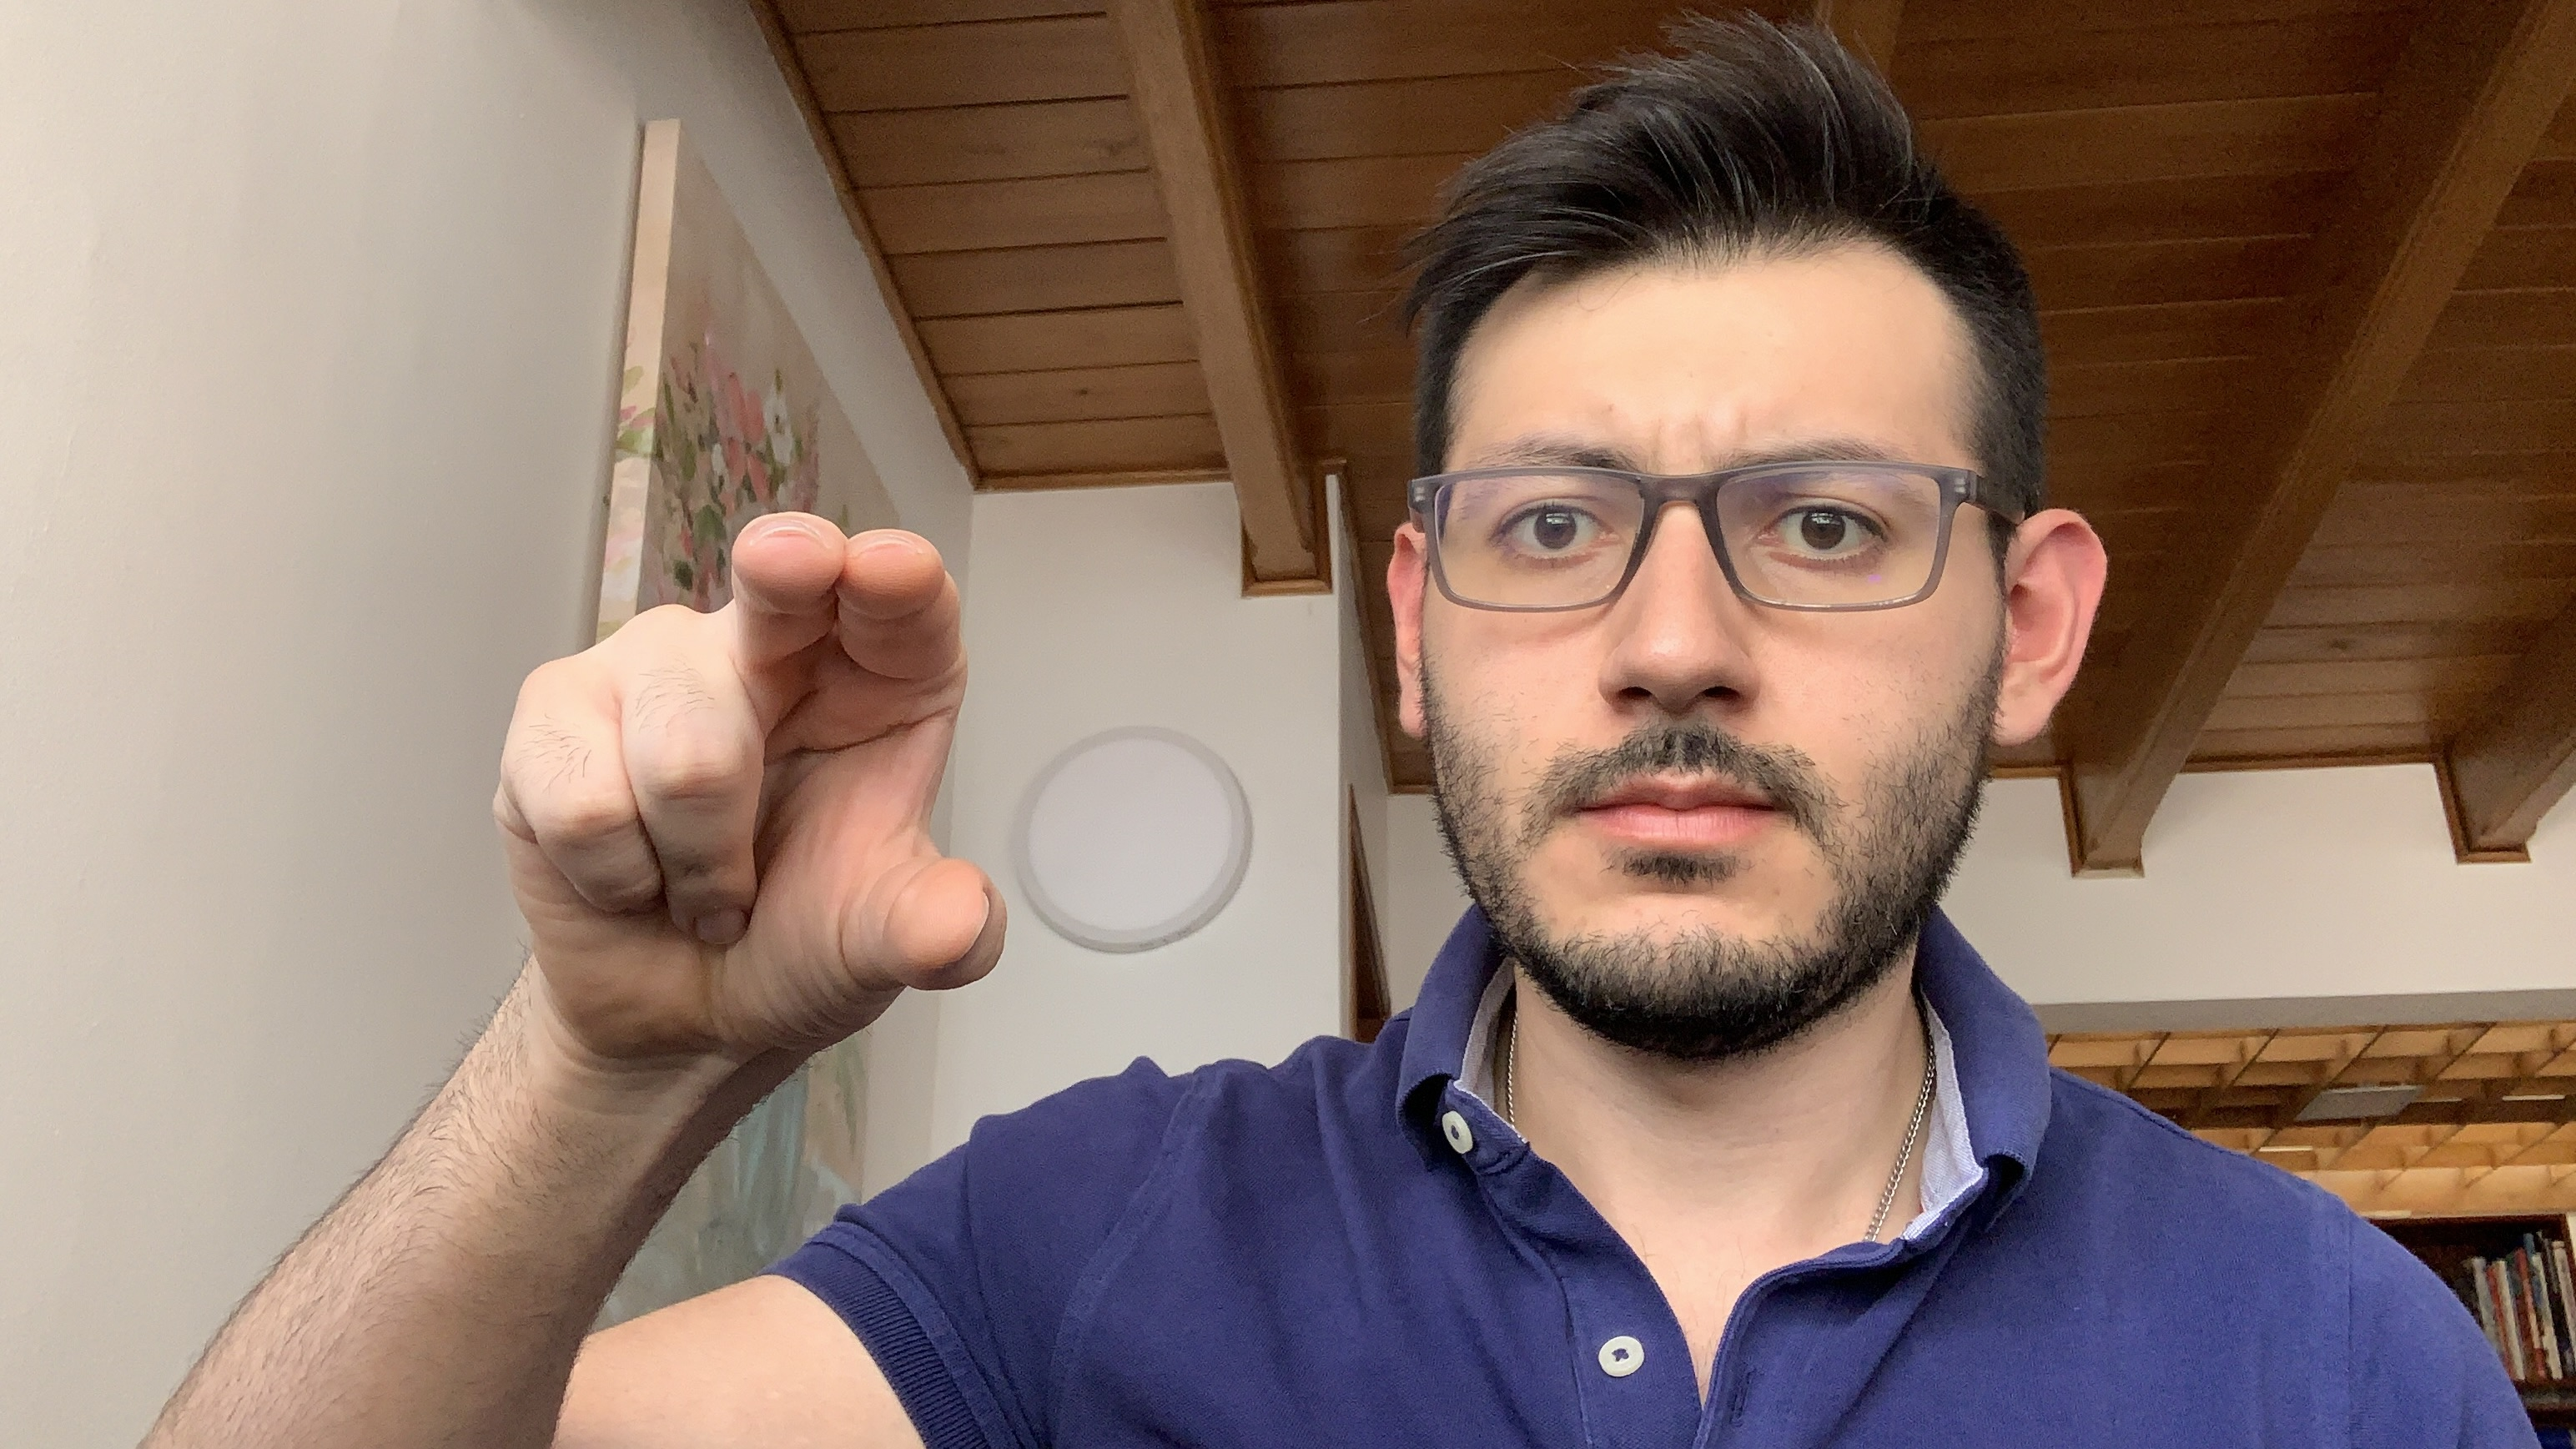No: (483, 497, 1026, 1092)
